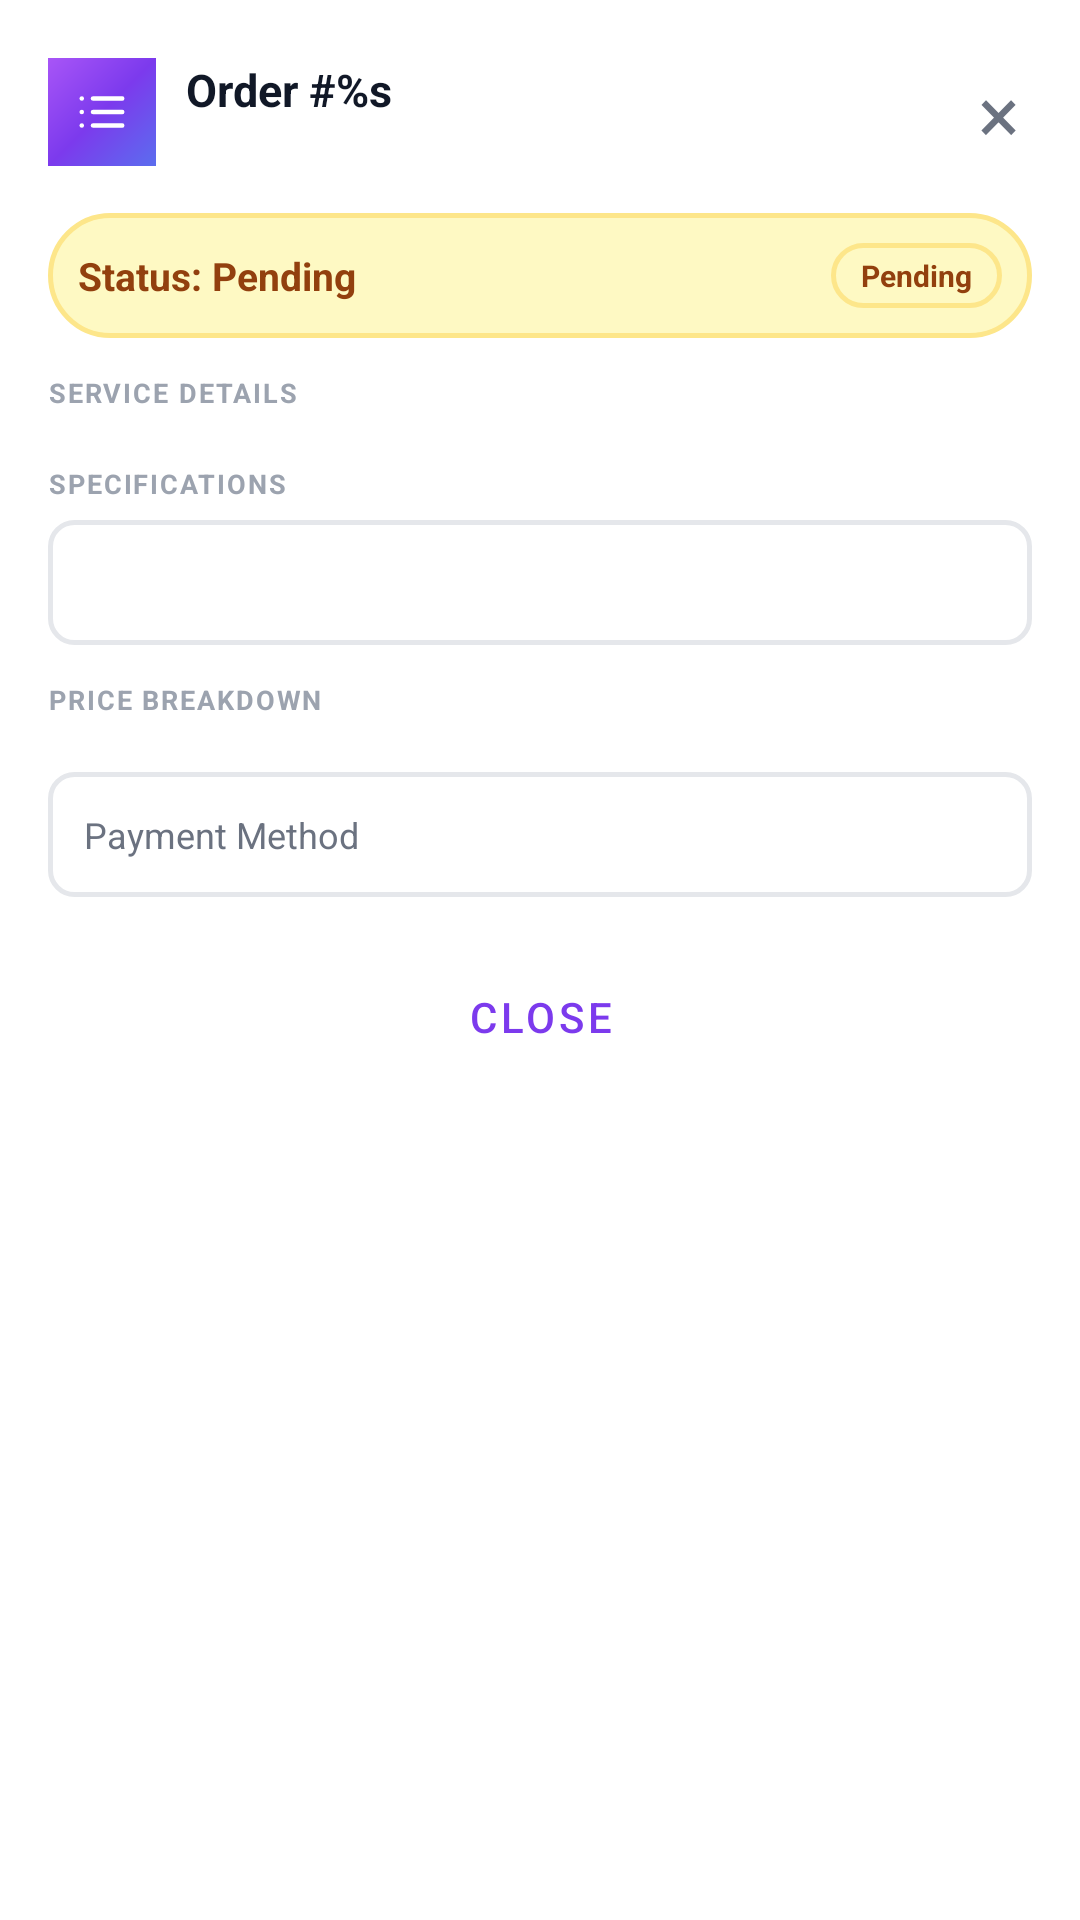

Named icons in this screenshot (1080px×1920px) and their bounding boxes, (x1, y1, x2, y2):
list: (79, 96, 125, 128)
